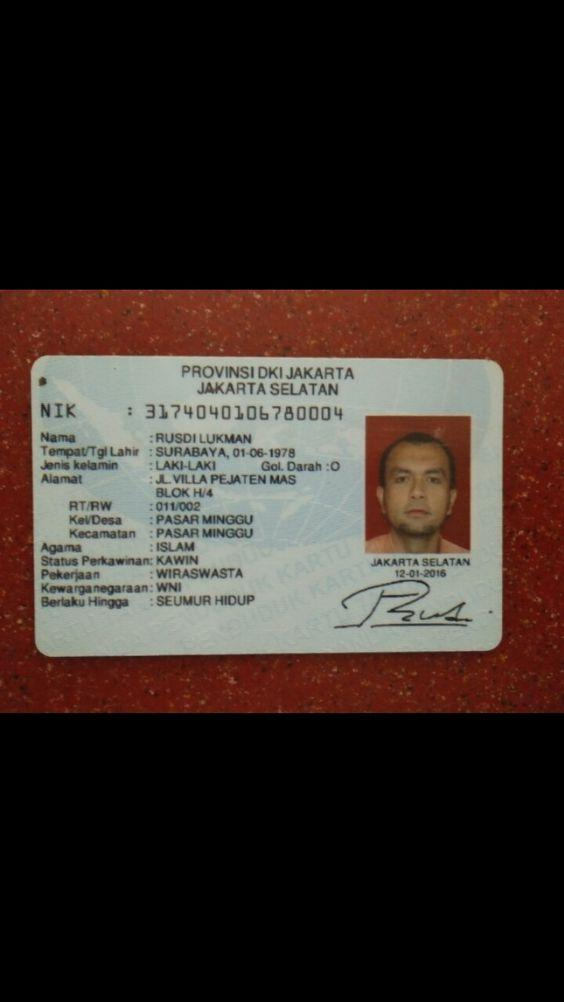ID-card: (28, 357, 501, 656)
